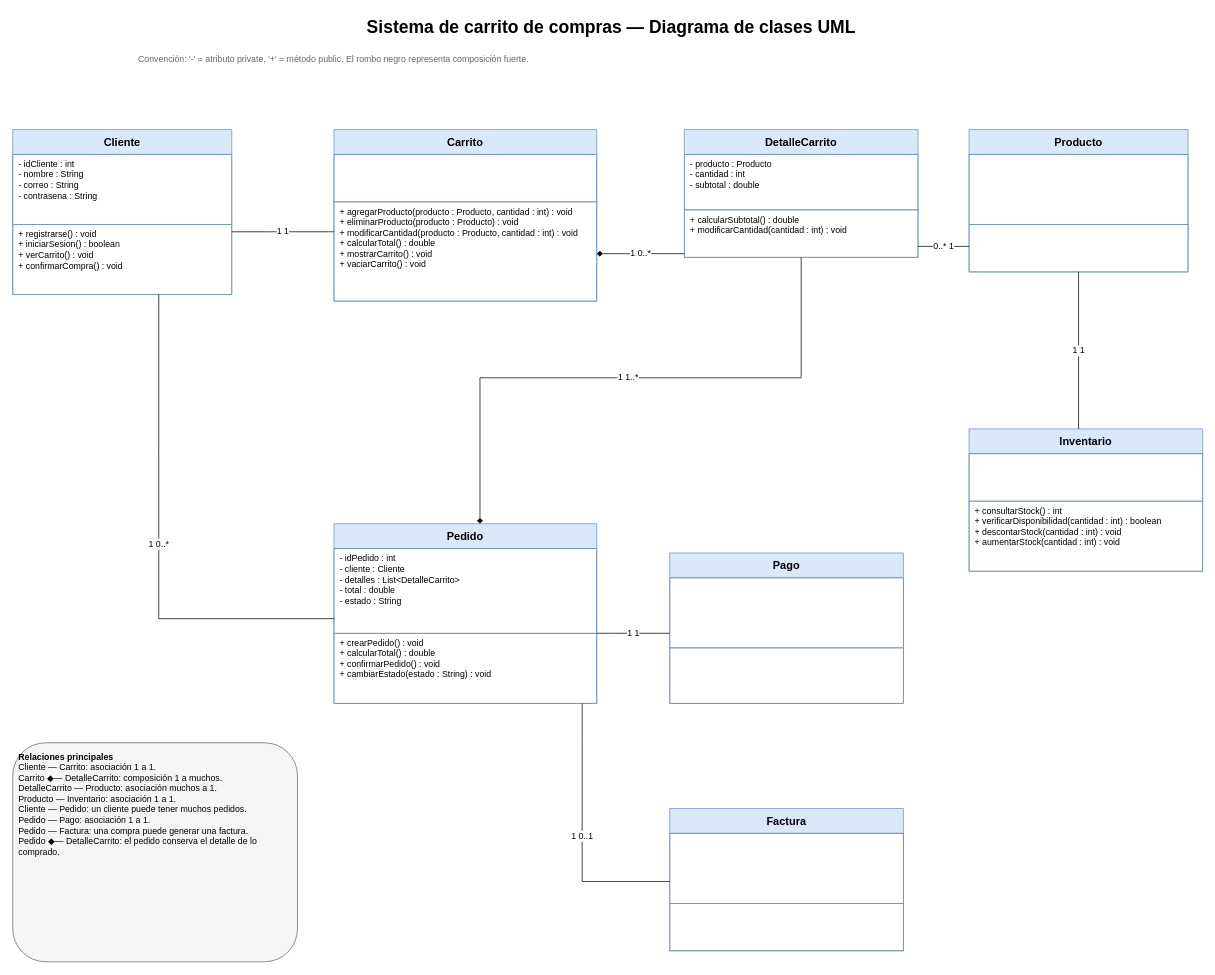
Image size: 1215x975. Some labels were removed from this diagram. The shapes that lost their labels are listed below. From the top down, each one's centre as x and y in pixels, then its label:
(x=465, y=178): - detalles : List<DetalleCarrito> - total : double
(x=1078, y=189): - idProducto : int - nombre : String - descripcion : String - precio : double
(x=1078, y=248): + mostrarInformacion() : void + obtenerPrecio() : double
(x=1085, y=477): - producto : Producto - stock : int
(x=786, y=612): - idPago : int - monto : double - metodoPago : String - estado : String
(x=786, y=675): + procesarPago() : boolean + validarPago() : boolean + obtenerEstado() : String
(x=786, y=868): - numeroFactura : int - pedido : Pedido - fecha : String - total : double
(x=786, y=927): + generarFactura() : void + mostrarFactura() : void
